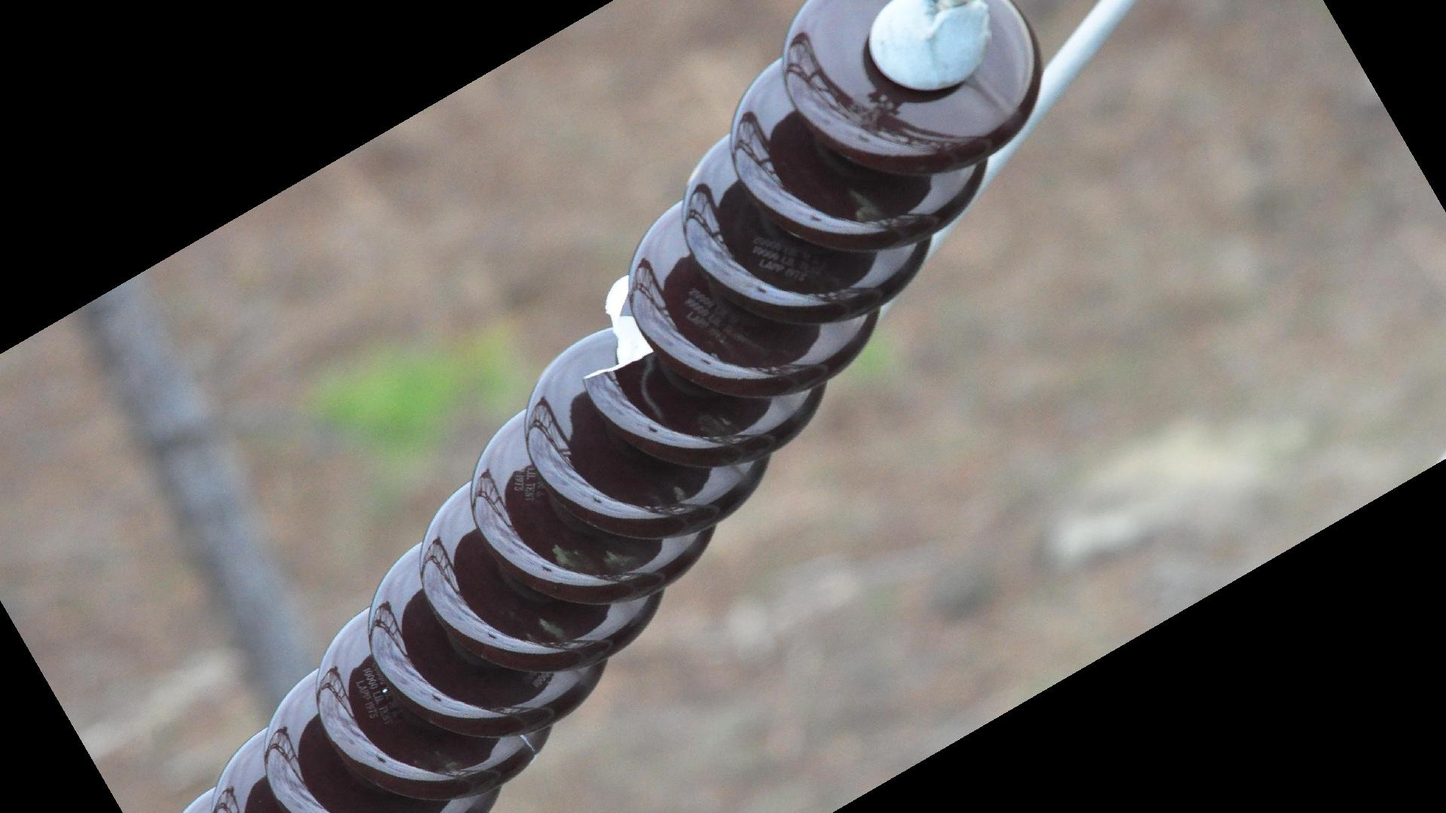insulator: (174, 1, 1051, 813)
insulator_breakage: (575, 266, 657, 395)
